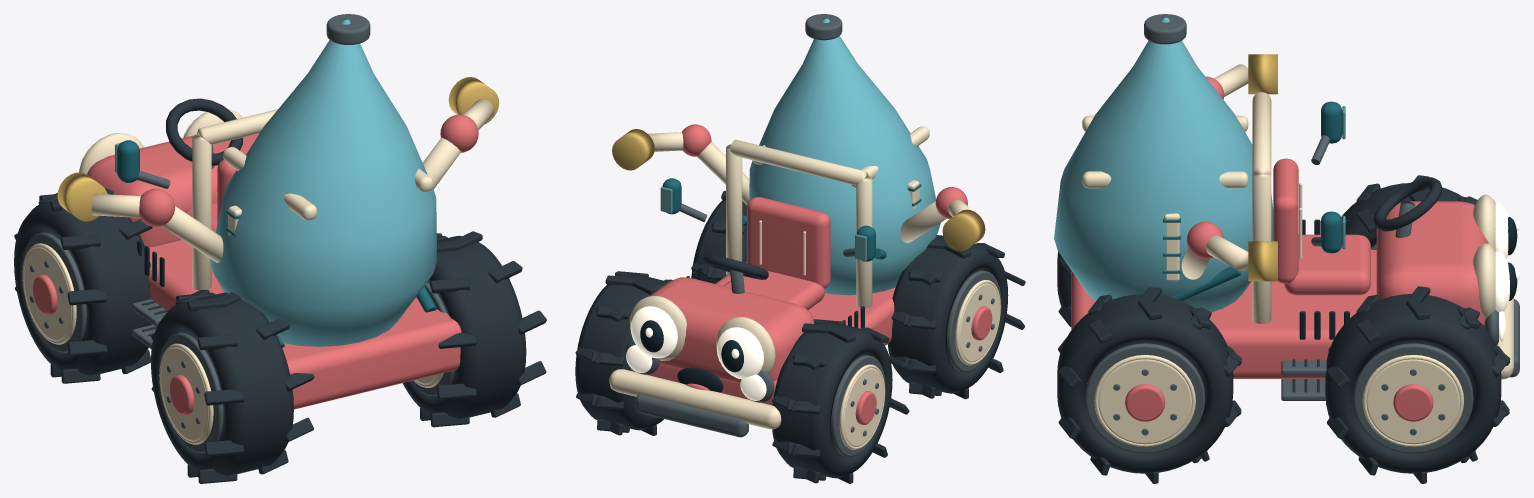
Rendered from pingo.glb.
3 views of the same model, side by side, from view 1: azimuth 30°, elevation 25°; view 2: azimuth 150°, elevation 25°; view 3: azimuth 270°, elevation 25° (orthographic). The views are drawn at different scales.
Parts seen in each view (by area): view 1: Tank, Body, WheelRL, WheelFL, WheelRR, BoomL, BoomR, Eyes; view 2: Body, Tank, WheelFL, WheelRL, WheelFR, Eyes, BoomR, BoomL, WheelRR; view 3: Tank, Body, WheelRR, WheelFR, Eyes, BoomR, WheelFL, BoomL, WheelRL.
Boxes of the visible parts, x1=… form: Tank: x1=210, y1=14, x2=437, y2=347; Body: x1=87, y1=98, x2=461, y2=409; WheelRL: x1=151, y1=290, x2=314, y2=483; WheelFL: x1=14, y1=188, x2=152, y2=383; WheelRR: x1=402, y1=231, x2=546, y2=427; BoomL: x1=57, y1=172, x2=223, y2=262; BoomR: x1=423, y1=77, x2=499, y2=188; Eyes: x1=79, y1=108, x2=242, y2=174; Body: x1=609, y1=139, x2=895, y2=437; Tank: x1=742, y1=14, x2=940, y2=295; WheelFL: x1=772, y1=319, x2=909, y2=483; WheelRL: x1=887, y1=235, x2=1025, y2=399; WheelFR: x1=575, y1=271, x2=672, y2=435; Eyes: x1=629, y1=296, x2=775, y2=379; BoomR: x1=612, y1=124, x2=749, y2=205; BoomL: x1=900, y1=187, x2=985, y2=251; WheelRR: x1=691, y1=191, x2=746, y2=283; Tank: x1=1054, y1=14, x2=1273, y2=312; Body: x1=1071, y1=92, x2=1519, y2=400; WheelRR: x1=1057, y1=287, x2=1241, y2=483; WheelFR: x1=1325, y1=286, x2=1510, y2=483; Eyes: x1=1473, y1=194, x2=1519, y2=319; BoomR: x1=1181, y1=221, x2=1277, y2=281; WheelFL: x1=1341, y1=175, x2=1477, y2=249; BoomL: x1=1206, y1=54, x2=1277, y2=99; WheelRL: x1=1057, y1=251, x2=1071, y2=326.
Size of the model in its own units: 3.6 by 3.33 by 3.48.
